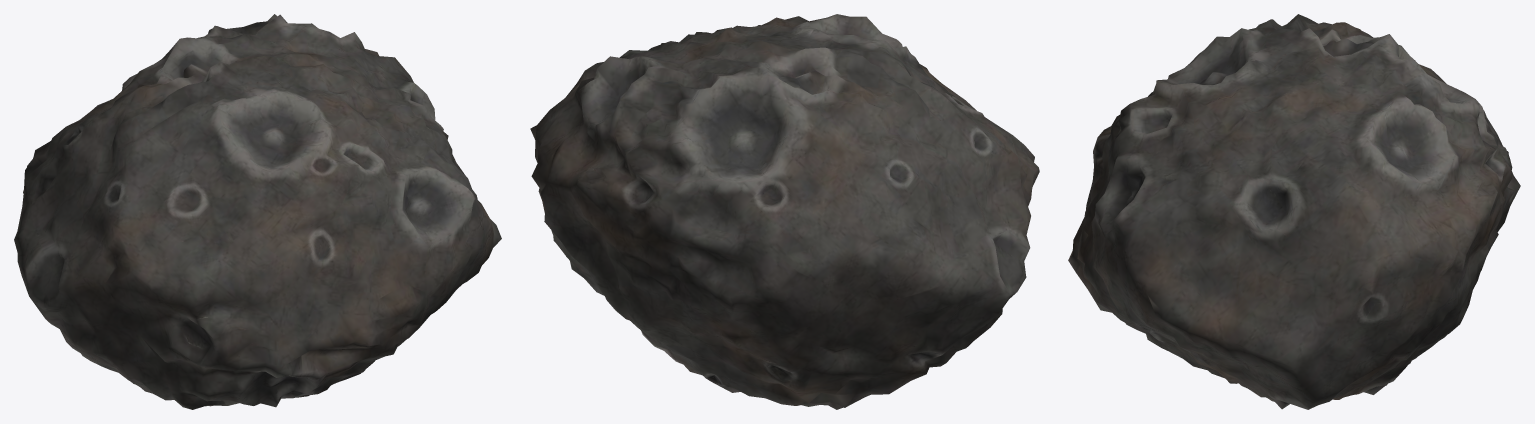
File: asteroid_c.glb
The picture shows the model from 3 angles, left to right: view 1: azimuth 30°, elevation 25°; view 2: azimuth 150°, elevation 25°; view 3: azimuth 270°, elevation 25°; orthographic projection. The views are drawn at different scales.
Parts seen in each view (by area): view 1: AST_C_low; view 2: AST_C_low; view 3: AST_C_low.
Part boxes in pixels (x1=…): AST_C_low: x1=14, y1=14, x2=501, y2=409; AST_C_low: x1=530, y1=14, x2=1039, y2=409; AST_C_low: x1=1068, y1=14, x2=1520, y2=409.
Bounding box in the file's own units: 1.93 × 1.35 × 1.66.
1 material, 1 textured.
